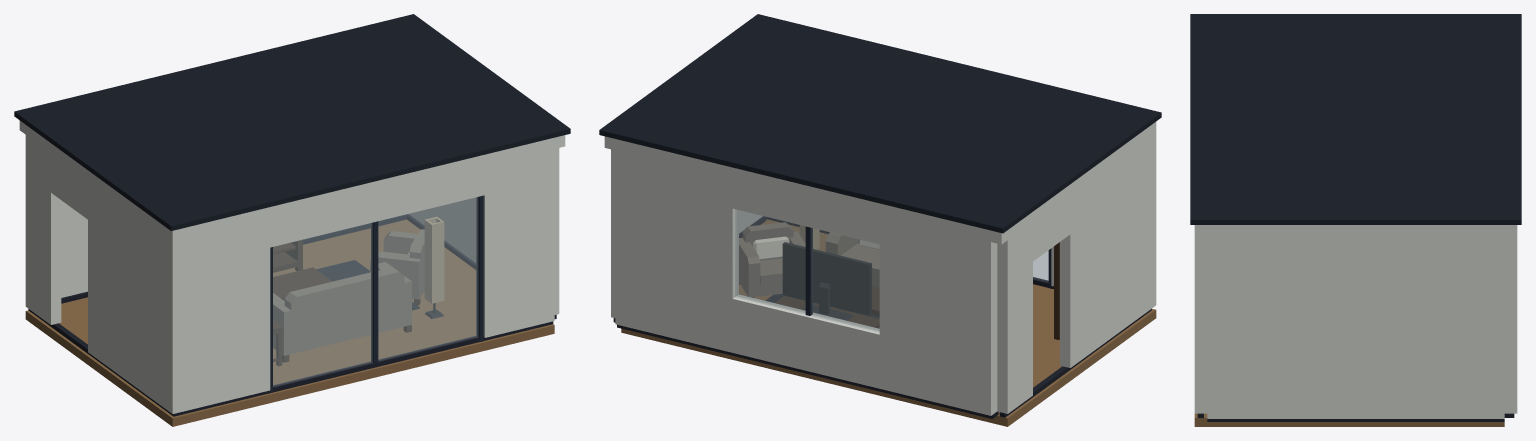
Rendered from living-room.glb.
The picture shows the model from 3 angles, left to right: view 1: azimuth 30°, elevation 25°; view 2: azimuth 150°, elevation 25°; view 3: azimuth 270°, elevation 25°; orthographic projection. The views are drawn at different scales.
Parts seen in each view (by area): view 1: Fascia, R_glass, Floor, R_pierA, L_pierA, R_pierB, S2_Sofa, R_head, Roof, L_pierB, Soffit_R, F_wall (+14 smaller); view 2: Fascia, N_pierB, N_pierA, L_pierA, N_glass, N_sill, Floor, L_pierB, Roof, S4_TV, N_head, S4_Chair (+11 smaller); view 3: Fascia, F_wall, Roof, R_pierB, N_pierB, Floor, F_plinth.
Boxes of the visible parts, bbox=[...] form: Fascia: bbox=[14, 14, 570, 230]; R_glass: bbox=[273, 197, 478, 386]; Floor: bbox=[25, 219, 554, 426]; R_pierA: bbox=[183, 218, 270, 411]; L_pierA: bbox=[88, 180, 166, 409]; R_pierB: bbox=[483, 149, 554, 337]; S2_Sofa: bbox=[273, 262, 411, 362]; R_head: bbox=[270, 166, 484, 247]; Roof: bbox=[19, 120, 565, 241]; L_pierB: bbox=[25, 135, 61, 324]; Soffit_R: bbox=[155, 139, 554, 241]; F_wall: bbox=[409, 148, 559, 314]; Fascia: bbox=[599, 14, 1161, 233]; N_pierB: bbox=[615, 150, 738, 352]; N_pierA: bbox=[879, 215, 997, 415]; L_pierA: bbox=[1060, 136, 1149, 367]; N_glass: bbox=[735, 209, 879, 331]; N_sill: bbox=[732, 294, 879, 388]; Floor: bbox=[621, 219, 1156, 426]; L_pierB: bbox=[997, 222, 1032, 413]; Roof: bbox=[604, 122, 1155, 244]; S4_TV: bbox=[782, 242, 871, 320]; N_head: bbox=[732, 179, 879, 244]; S4_Chair: bbox=[739, 222, 805, 297]; Fascia: bbox=[1190, 14, 1521, 224]; F_wall: bbox=[1207, 237, 1504, 418]; Roof: bbox=[1194, 225, 1517, 237]; R_pierB: bbox=[1194, 237, 1207, 413]; N_pierB: bbox=[1504, 237, 1517, 413]; Floor: bbox=[1194, 413, 1504, 426]; F_plinth: bbox=[1207, 419, 1504, 421].
Size of the model in its own units: 6.88 by 3.34 by 4.68.
